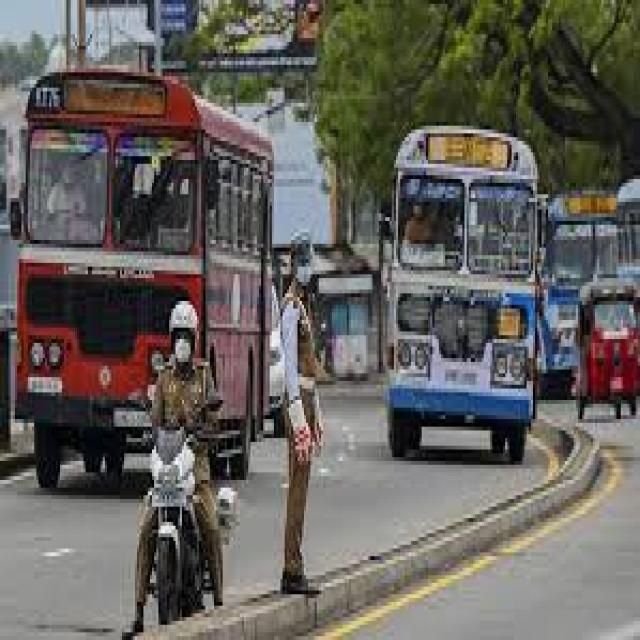bus: (17, 72, 272, 587), (387, 126, 537, 461), (539, 190, 614, 396)
motorcycle: (148, 427, 203, 625)
person: (137, 301, 220, 629), (280, 240, 321, 594)
three wheeler: (578, 278, 638, 415)
